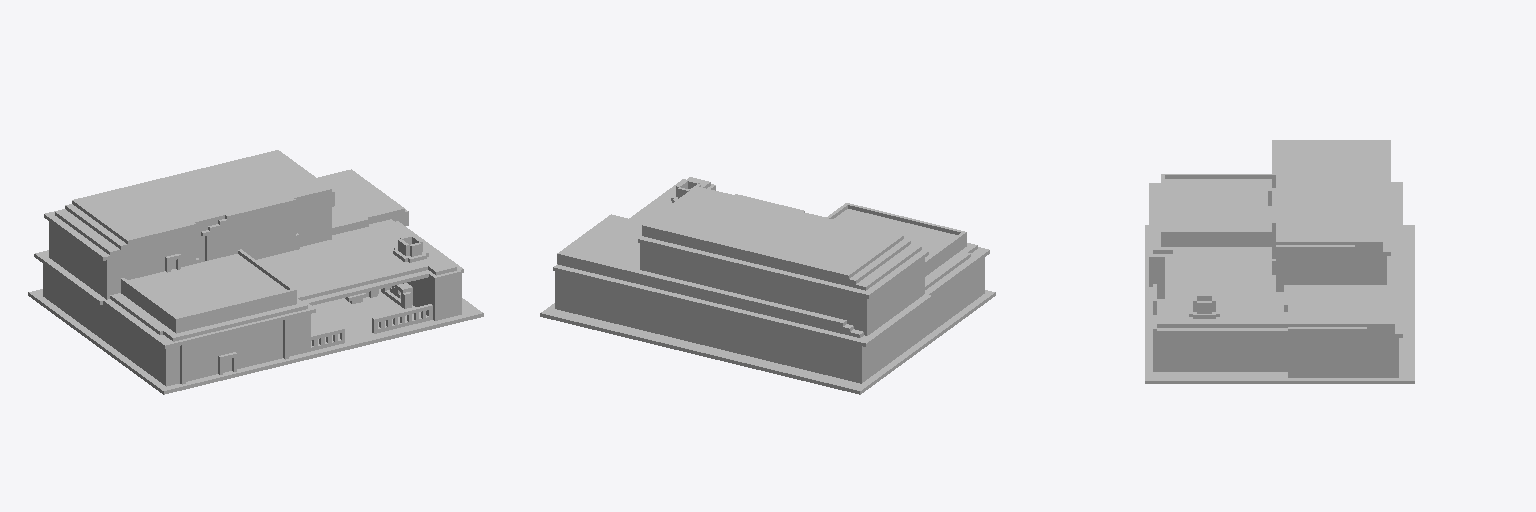
The model's file is T3 Blacksmith#.obj.
The picture shows the model from 3 angles: view 1: azimuth 30°, elevation 25°; view 2: azimuth 150°, elevation 25°; view 3: azimuth 270°, elevation 25°; orthographic projection.
Visible parts, largest first — view 1: object 1; view 2: object 1; view 3: object 1.
Boxes of the visible parts, x1,y1,x2,y2 form: object 1: [28, 150, 483, 394]; object 1: [540, 177, 995, 394]; object 1: [1145, 140, 1414, 383].
Bounding box in the file's own units: 9.3 × 2.8 × 6.8.